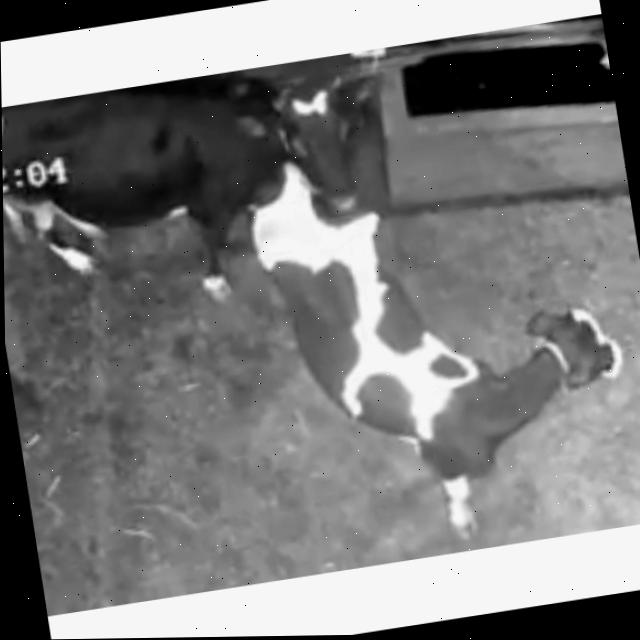propping: (228, 57, 416, 290)
